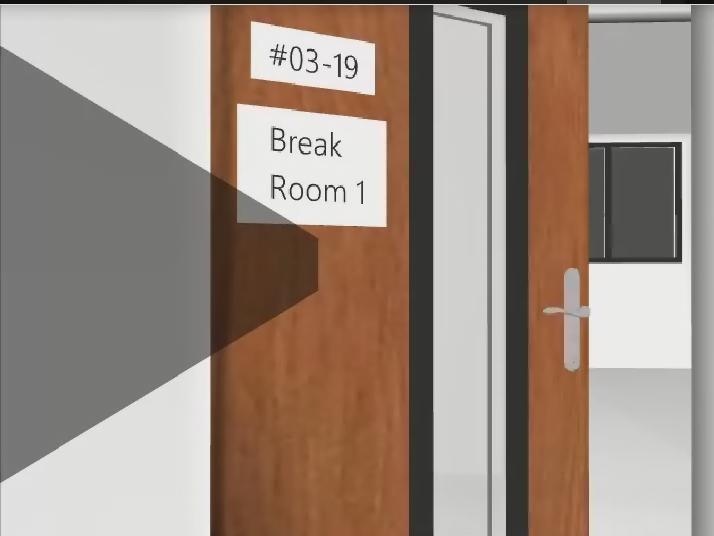door: (211, 6, 592, 536)
